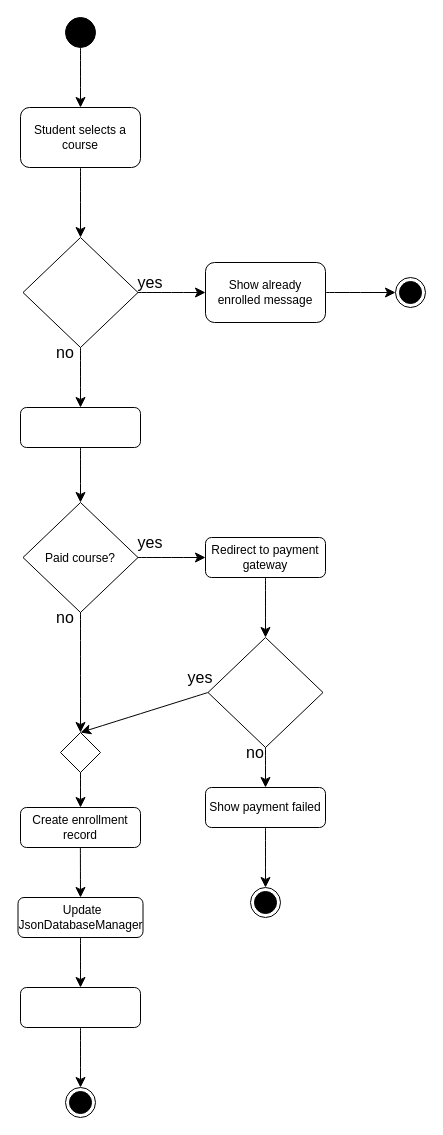
Image size: 443x1135. Some labels were removed from this diagram. The shapes that lost their labels are listed below. From the top down, each one's box as (x1, y1, x2, y2) in pixels, then its label:
(22, 236, 138, 348): Already enrolled?
(20, 406, 140, 448): Show course details and price
(207, 636, 323, 748): Payment success?
(20, 986, 140, 1028): Send confirmation to student
